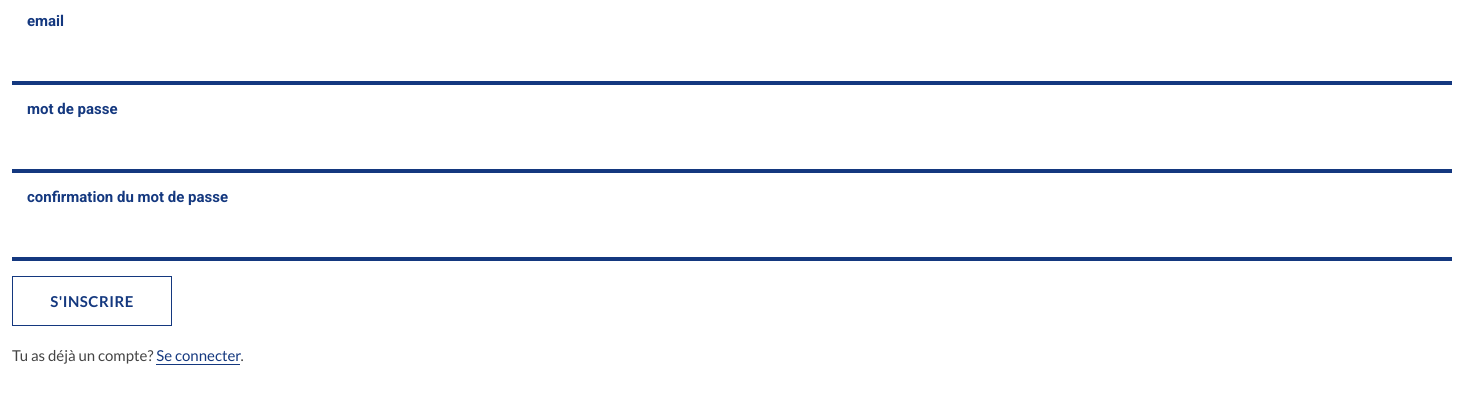
Register Form › with invalid password
The image size is (1464, 407).
In the password field labelled "mot de passe": (732, 148) [12,123,1452,173], type "not"
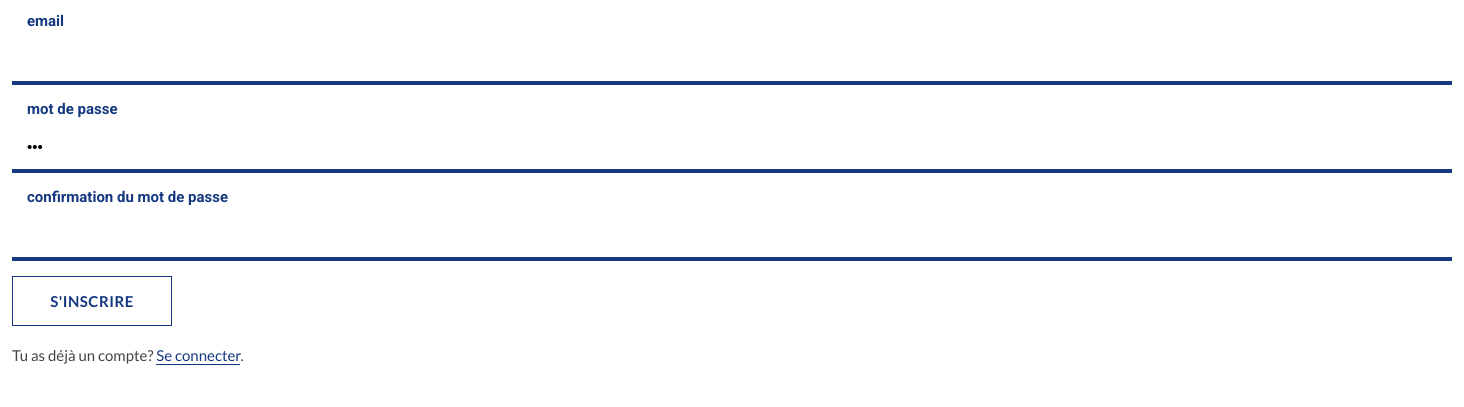
Leave the password field labelled "mot de passe", box [12,123,1452,173]
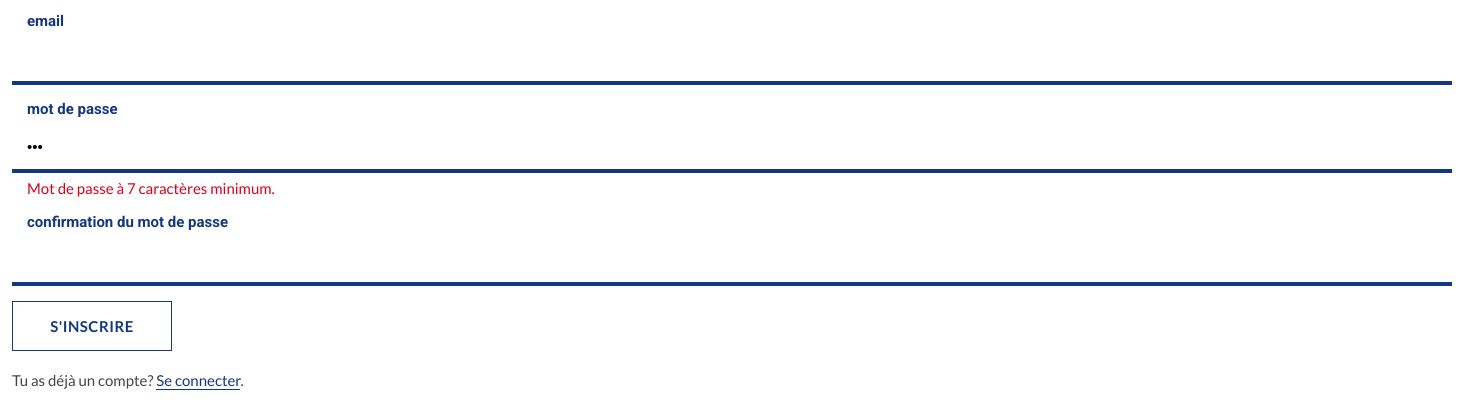
Expected: the text "Mot de passe à 7 caractères minimum." is shown, [27,179,275,197]
